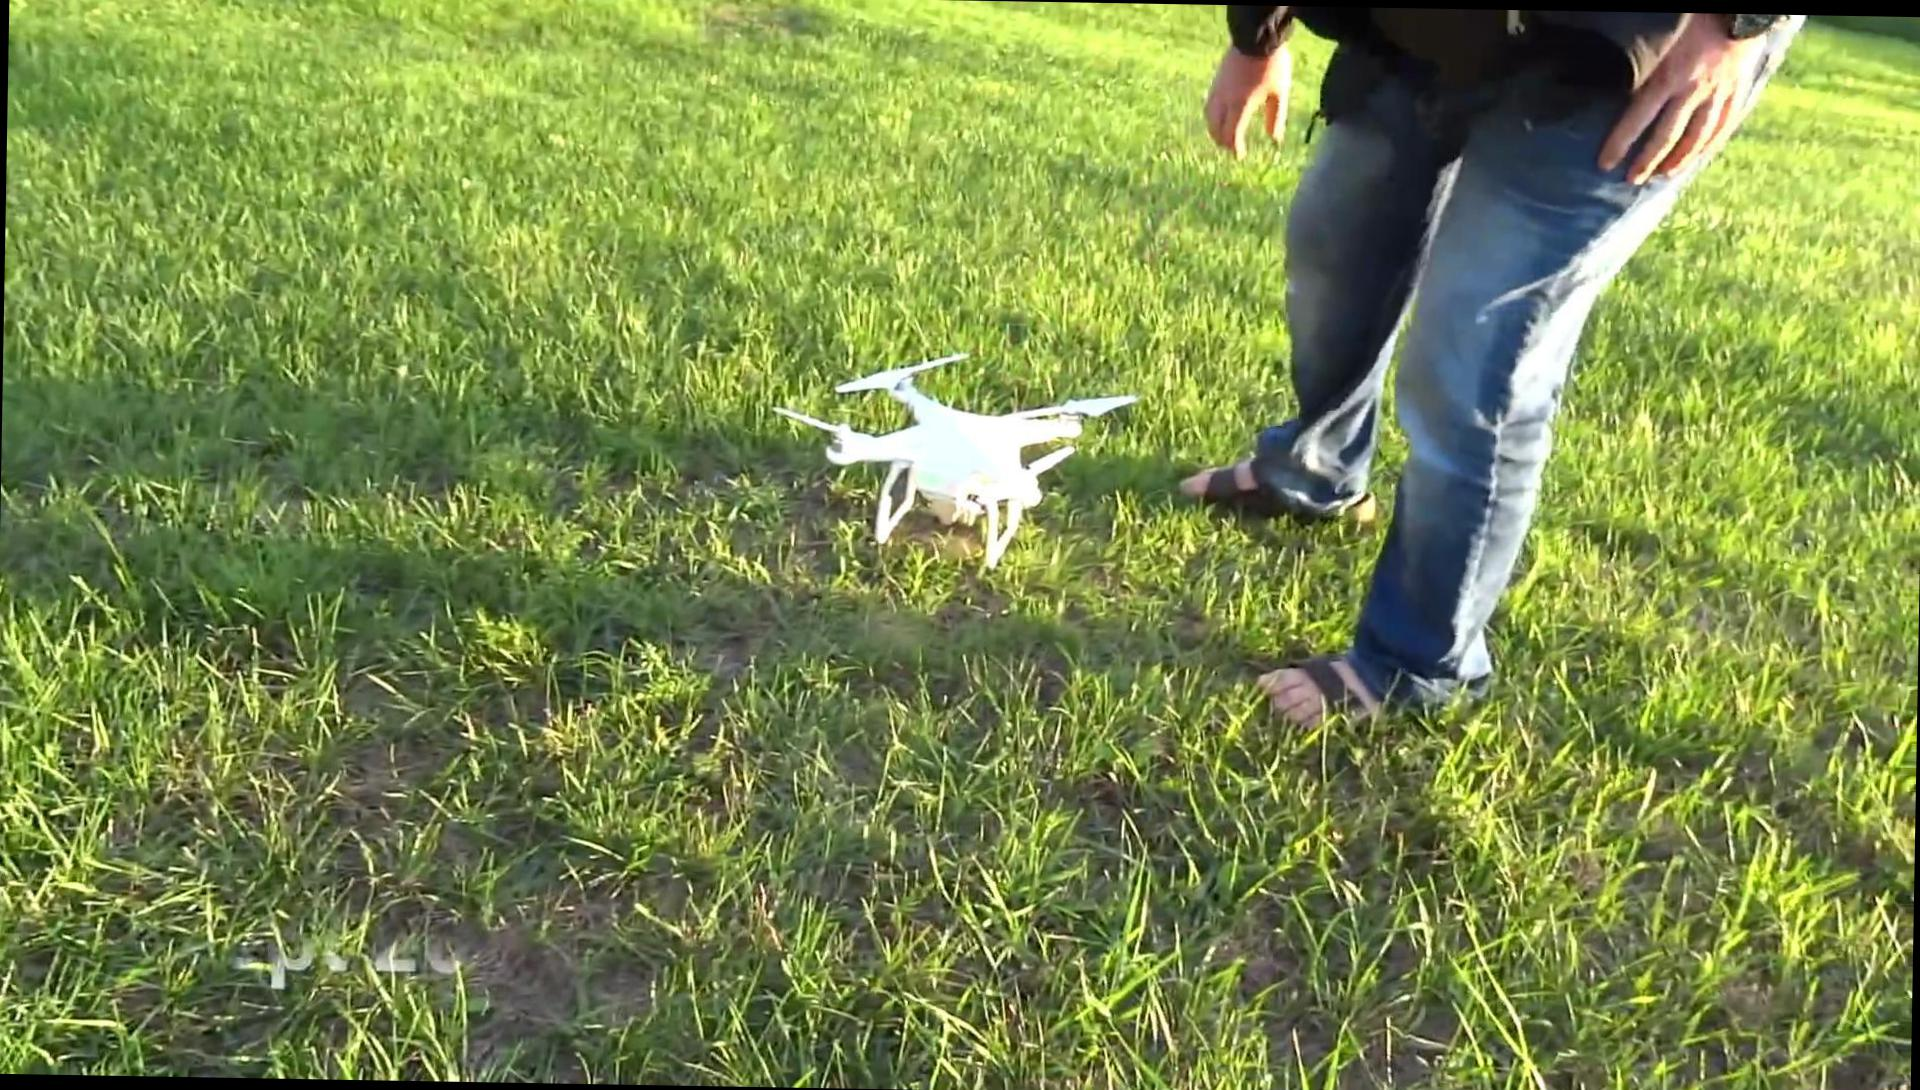drone: (779, 349, 1143, 567)
